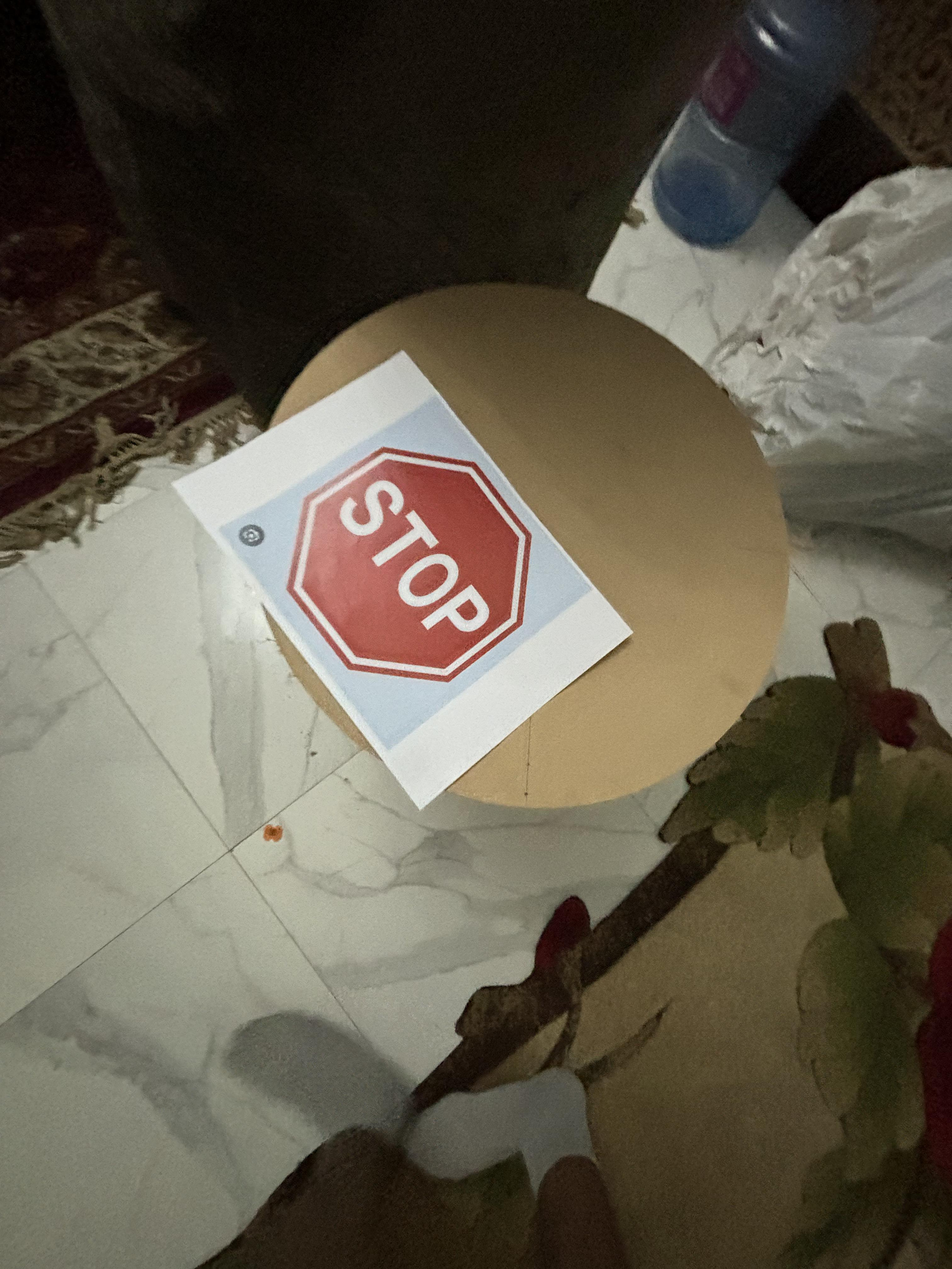Stop: (281, 444, 545, 689)
